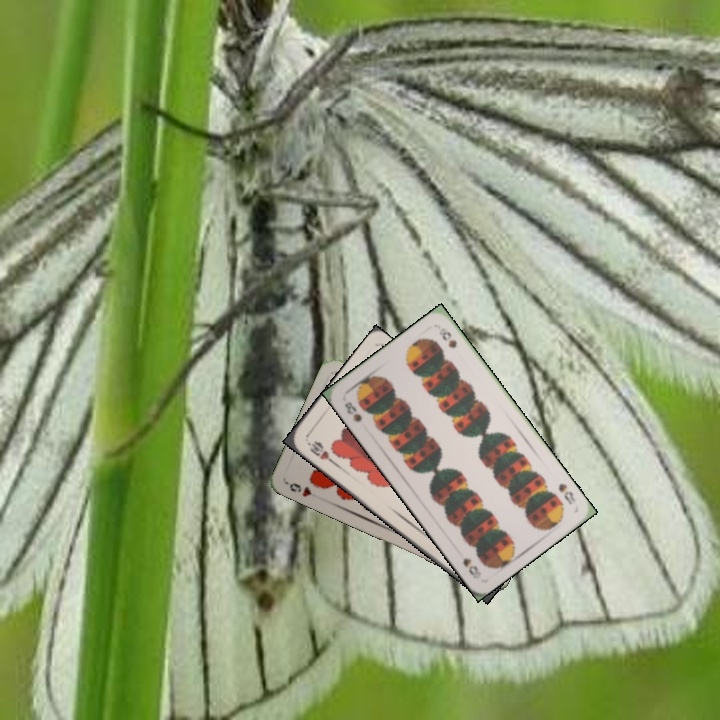H10: (303, 436, 337, 466)
H9: (285, 478, 315, 499)
S8: (340, 397, 365, 425), (554, 479, 578, 507)
